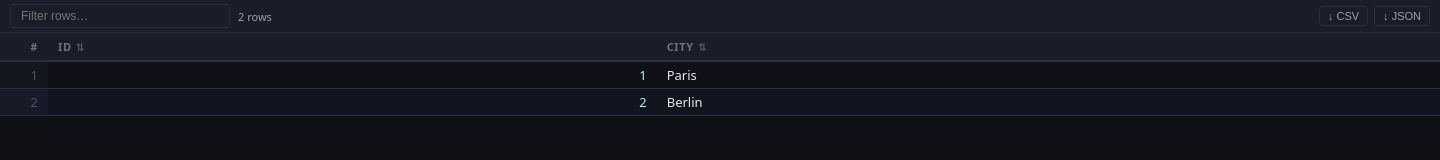
it: ResultsTable — sorting › clears sort after three clicks and shows ⇅ again
The width and height of the screenshot is (1440, 160).
Click the column heading "id⇅" at (352, 47), box [48,33,657,61]
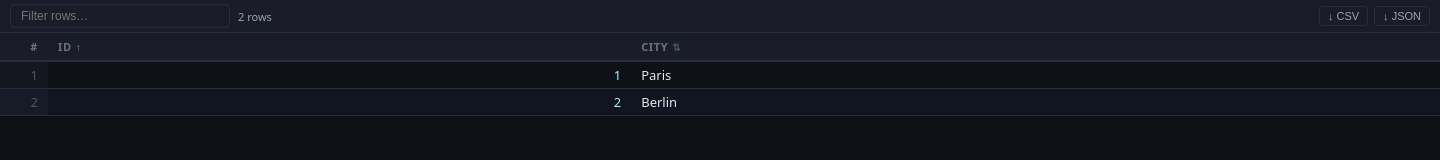
Click the column heading "id↑" at (340, 47), box [48,33,631,61]
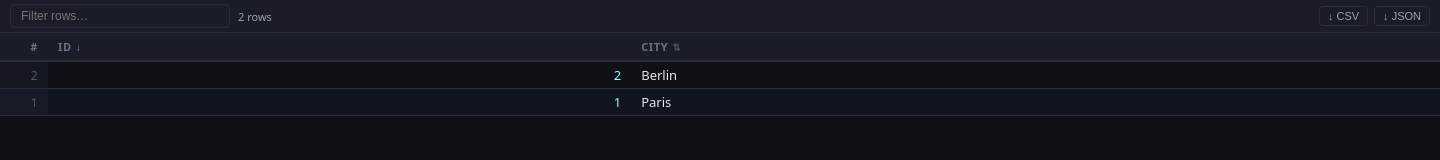
Click the column heading "id↓" at (340, 47), box [48,33,631,61]
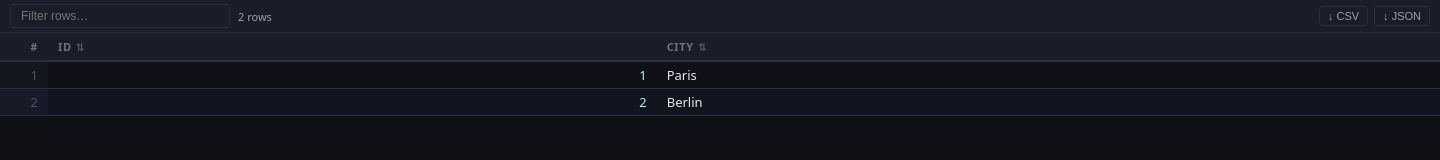
Check: the column heading "id⇅" is shown, box [48,33,657,61]
